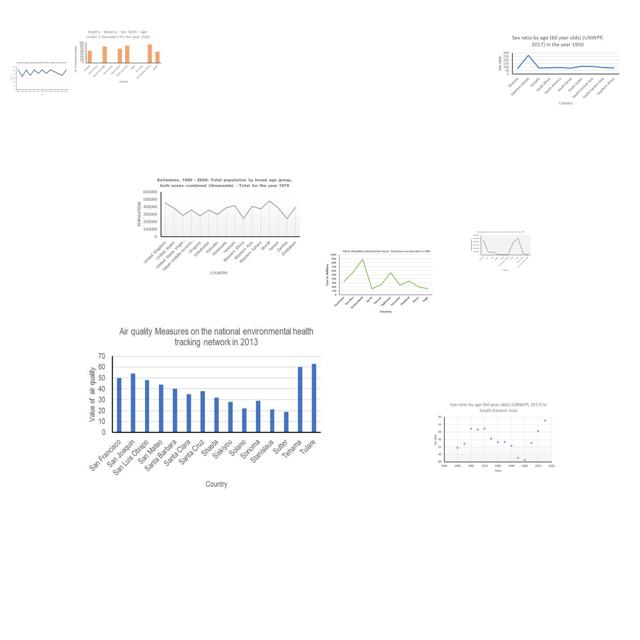Graph: (82, 323, 327, 490), (133, 175, 303, 276), (494, 34, 622, 110), (432, 401, 557, 476), (324, 246, 434, 315), (73, 28, 163, 85), (469, 230, 531, 272), (9, 61, 71, 96)
